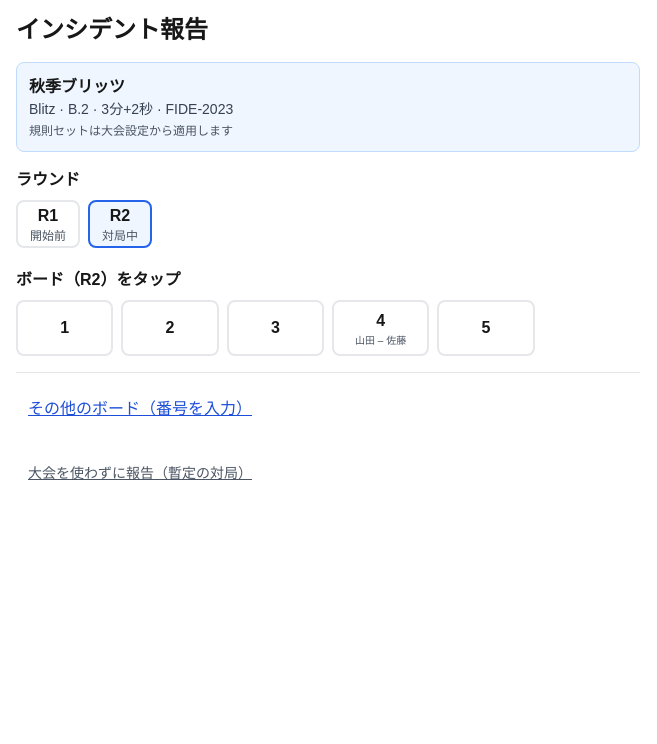
it: Report page — game context from the active tournament › creates a missing board from the 'other board' input
Expected: the button with aria-label "ボード4" is shown, x1=332 y1=300 x2=429 y2=356
Click the button "その他のボード（番号を入力）".
click(140, 409)  # box x1=16 y1=385 x2=264 y2=433
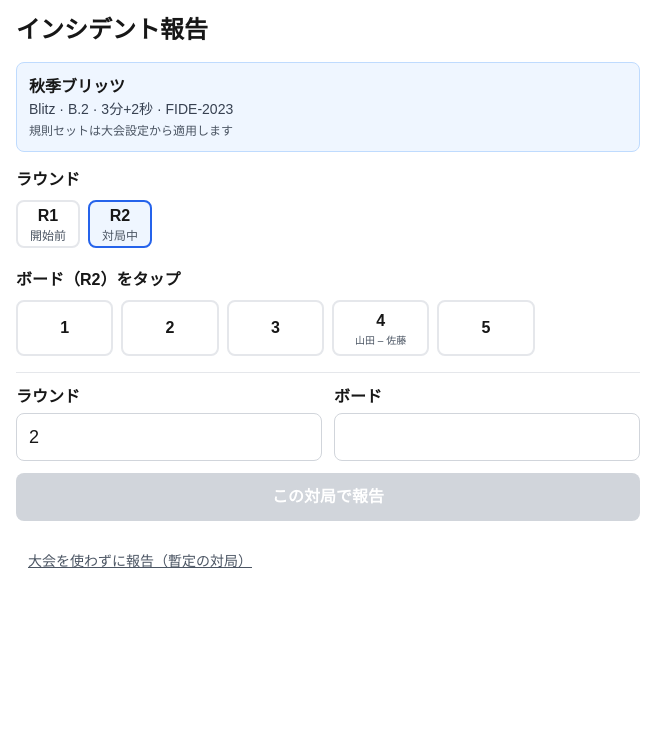
Type "12" into the number field labelled "ボード".
click(487, 437); type("12")  # box x1=334 y1=413 x2=640 y2=461
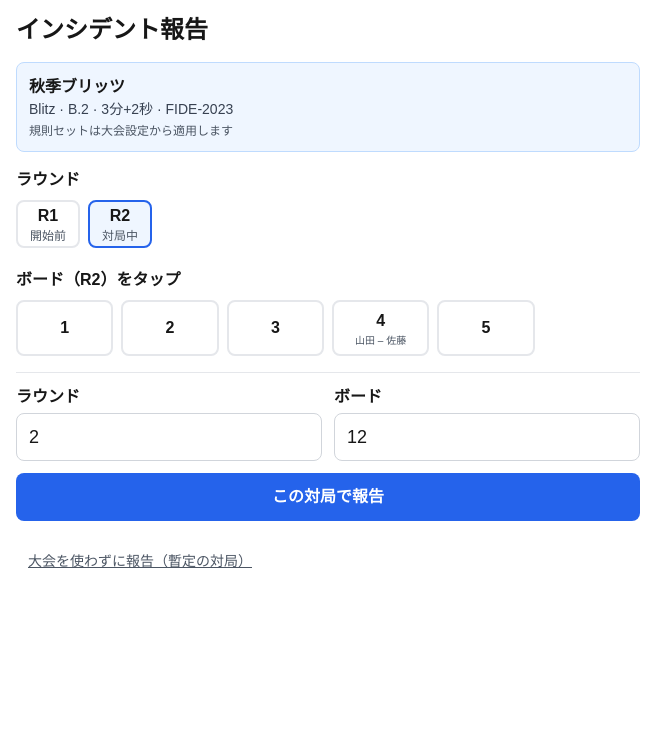
Click the button "この対局で報告".
click(328, 497)  # box x1=16 y1=473 x2=640 y2=521
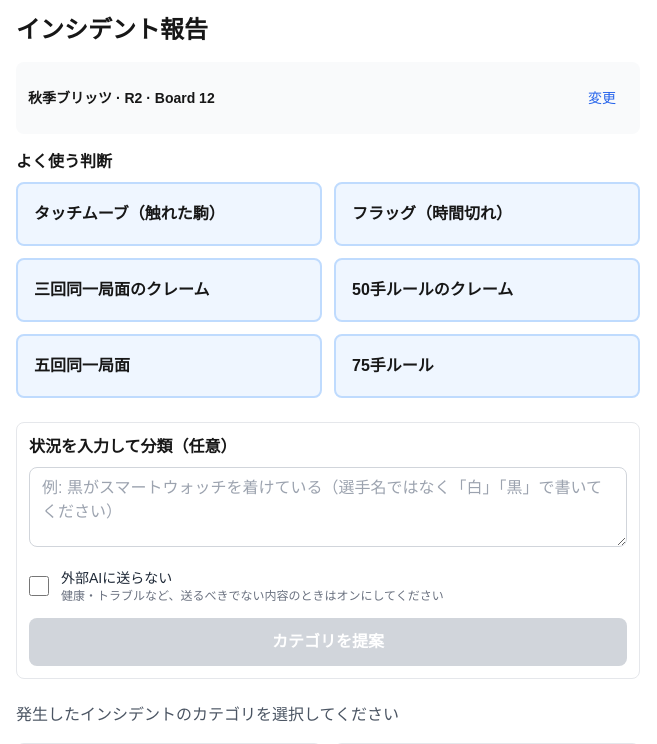
Now the text "秋季ブリッツ · R2 · Board 12" is shown, box x1=28 y1=88 x2=215 y2=108
